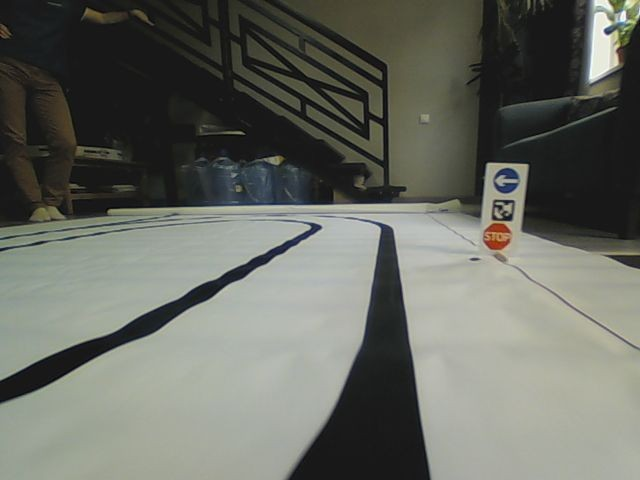Stop: (482, 222, 511, 251)
